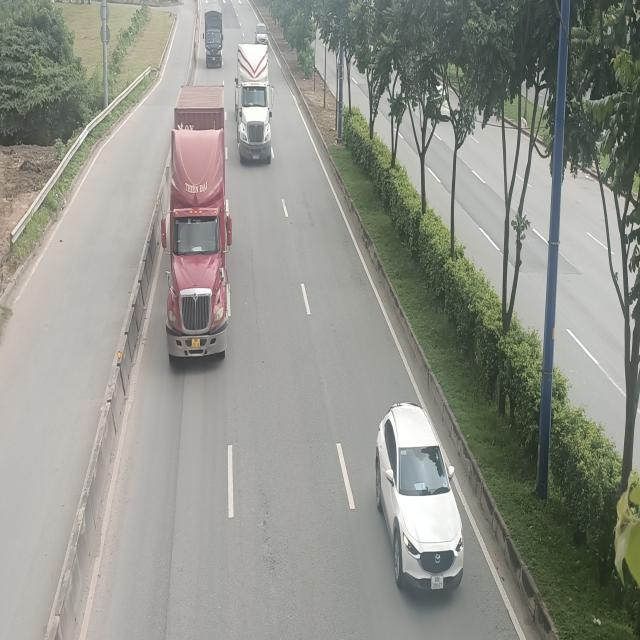car: (374, 400, 464, 594)
container: (160, 84, 233, 357), (235, 45, 273, 164)
truck: (203, 3, 224, 71)
